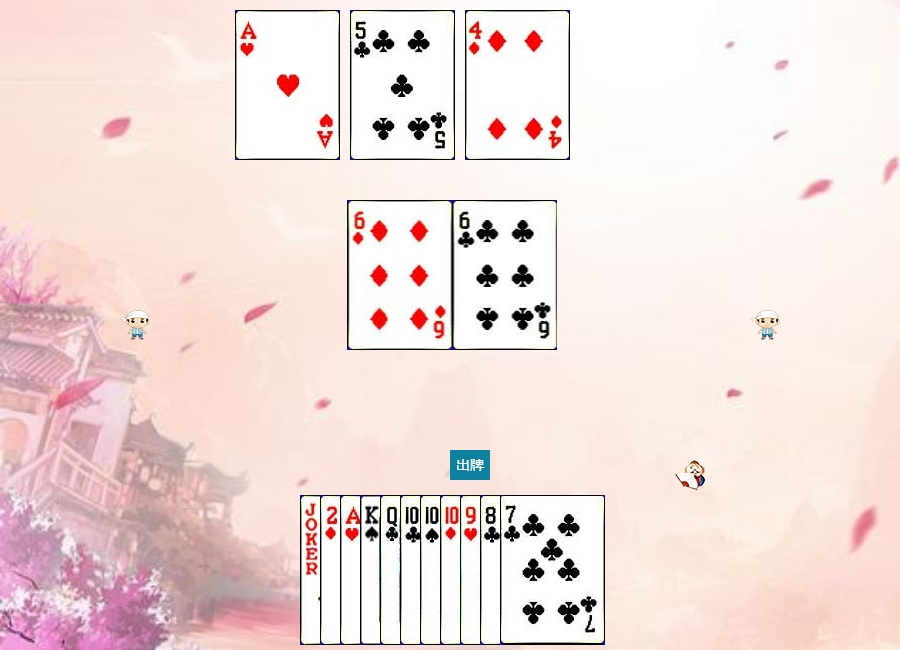10~1: (440, 495, 545, 645)
10~2: (400, 495, 505, 645)
10~4: (420, 495, 525, 645)
12~2: (380, 495, 485, 645)
13~4: (360, 495, 465, 645)
14~3: (235, 10, 340, 160), (340, 495, 445, 645)
15~1: (320, 495, 425, 645)
18~4: (300, 495, 405, 645)
4~1: (465, 10, 570, 160)
5~2: (350, 10, 455, 160)
6~1: (348, 200, 453, 350)
6~2: (453, 200, 558, 350)
7~2: (500, 495, 605, 645)
8~2: (480, 495, 585, 645)
9~3: (460, 495, 565, 645)
